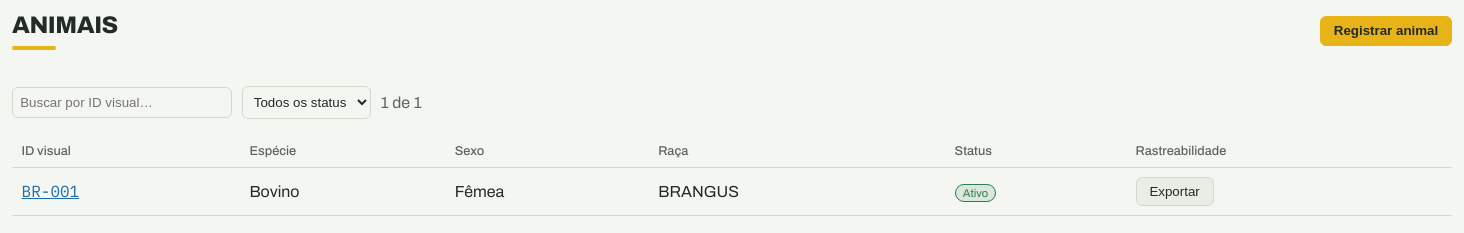
Test: Animals page › lists animals and exports a traceability packet (JK-ANI-006)
Expected: the link "BR-001" is shown, [22,182,79,202]
Click the button "Exportar": (1175, 192) [1136,177,1214,206]
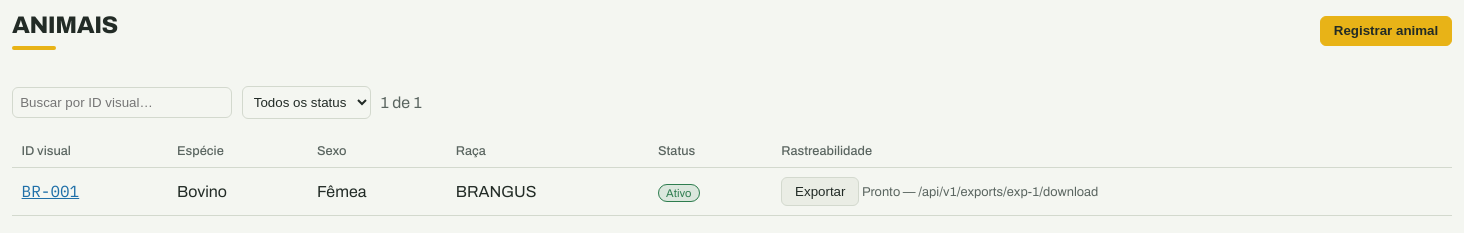
Result: the text "Pronto — /api/v1/exports/exp-1/download" is shown at [859,185,1098,199]
